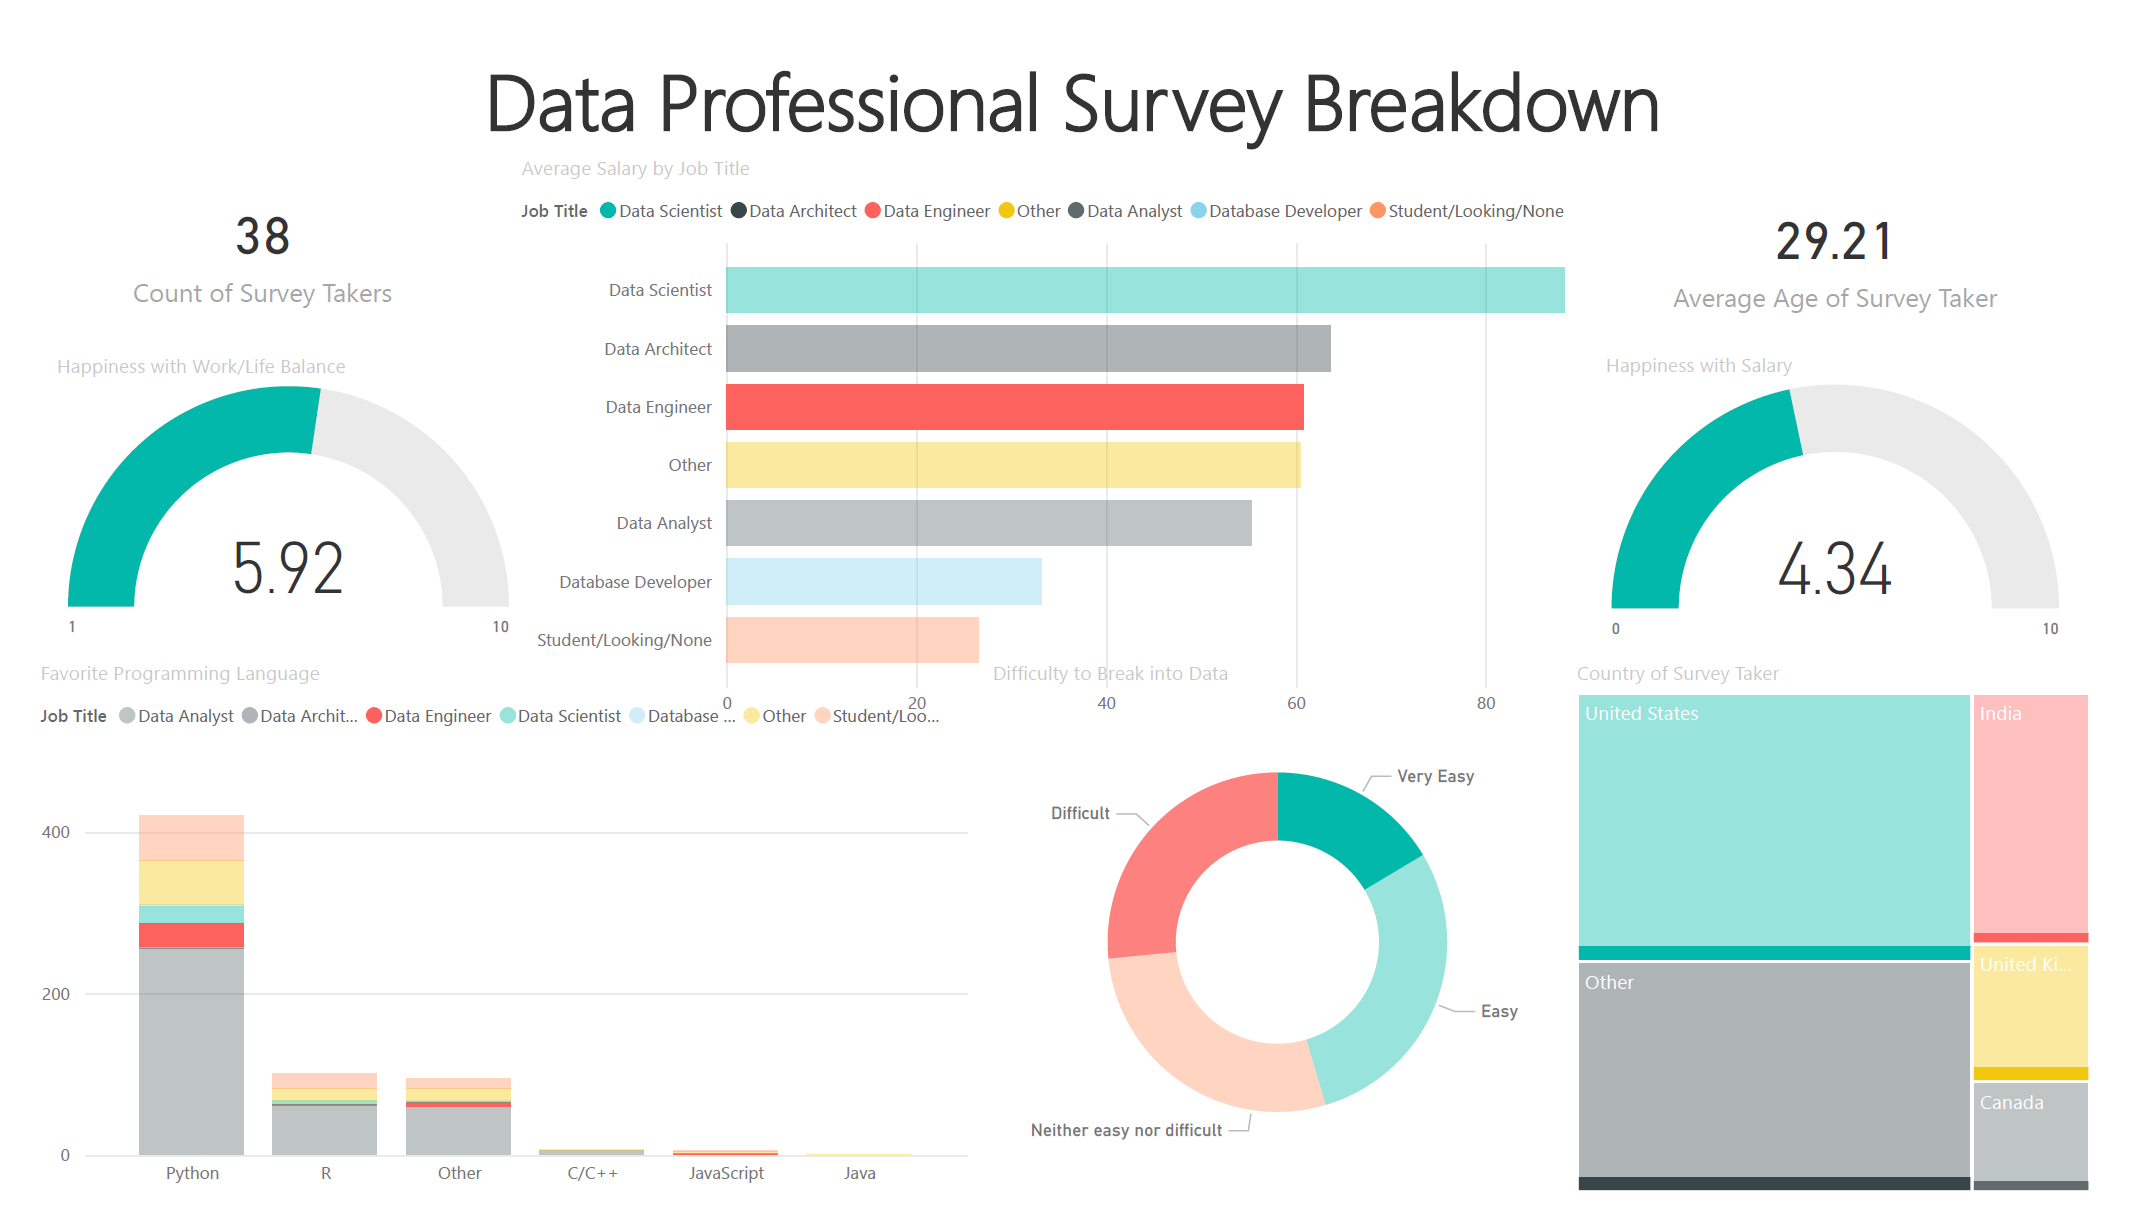

Layout of this report page (visuals, bound fields, positions):
{"tool":"powerbi","page":{"name":"Page 1","canvas":[1280,720],"ordinal":0},"visuals":[{"type":"textbox","box":[9.6,0,1270.7,76.8],"z":0},{"type":"card","fields":{"Values":["Count(Data Professional Survey (2).Unique ID)"]},"box":[51.2,77.5,182.7,106.6],"z":1000},{"type":"card","fields":{"Values":["Avg(Data Professional Survey (2).Q10 - Current Age)"]},"box":[1009,77.5,215.9,112.1],"z":2000},{"type":"barChart","title":"Average Salary by Job Title","fields":{"Category":["Data Professional Survey (2).Q1 - Which Title Best Fits your Current Role?.1"],"Y":["Avg(Data Professional Survey (2).Average Salary)"],"Series":["Data Professional Survey (2).Q1 - Which Title Best Fits your Current Role?.1"]},"box":[297.6,72,672.7,357.1],"z":3000},{"type":"columnChart","title":"Favorite Programming Language","fields":{"Category":["Data Professional Survey (2).Q5 - Favorite Programming Language.1"],"Y":["CountNonNull(Data Professional Survey (2).Unique ID)"],"Series":["Data Professional Survey (2).Q1 - Which Title Best Fits your Current Role?.1"]},"box":[0,384.8,584.1,334.9],"z":4000},{"type":"treemap","title":"Country of Survey Taker","fields":{"Group":["Data Professional Survey (2).Q11 - Which Country do you live in?.1"],"Values":["CountNonNull(Data Professional Survey (2).Q11 - Which Country do you live in?.1)"]},"box":[952.3,384.8,328,334.9],"z":5000},{"type":"gauge","title":"Happiness with Work/Life Balance","fields":{"Y":["Avg(Data Professional Survey (2).Q6 - How Happy are you in your Current Position with the following? (Work/Life Balance)"],"MinValue":["Min(Data Professional Survey (2).Q6 - How Happy are you in your Current Position with the following? (Work/Life Balance)"],"MaxValue":["Max(Data Professional Survey (2).Q6 - How Happy are you in your Current Position with the following? (Work/Life Balance)"]},"box":[9.7,195.2,297.6,182.7],"z":6000},{"type":"gauge","title":"Happiness with Salary","fields":{"Y":["Avg(Data Professional Survey (2).Q6 - How Happy are you in your Current Position with the following? (Salary))"],"MinValue":["Min(Data Professional Survey (2).Q6 - How Happy are you in your Current Position with the following? (Salary))"],"MaxValue":["Max(Data Professional Survey (2).Q6 - How Happy are you in your Current Position with the following? (Salary))"]},"box":[970.2,193.8,293.4,185.5],"z":7000},{"type":"donutChart","title":"Difficulty to Break into Data","fields":{"Category":["Data Professional Survey (2).Q7 - How difficult was it for you to break into Data?"],"Y":["Avg(Data Professional Survey (2).Average Salary)"]},"box":[589.6,384.8,362.6,334.9],"z":8000}]}

Visuals, with their boxes in screenshot pixels (x1, y1, x2, y2), scaled from the page's 1280x720 canvas onto the 2135x1231 screenshot:
textbox: l=16, t=0, r=2134, b=131
card - Count(Data Professional Survey (2).Unique ID): l=85, t=133, r=390, b=315
card - Avg(Data Professional Survey (2).Q10 - Current Age): l=1683, t=133, r=2043, b=324
"Average Salary by Job Title" barChart: l=496, t=123, r=1618, b=734
"Favorite Programming Language" columnChart: l=0, t=658, r=974, b=1230
"Country of Survey Taker" treemap: l=1588, t=658, r=2134, b=1230
"Happiness with Work/Life Balance" gauge: l=16, t=334, r=513, b=646
"Happiness with Salary" gauge: l=1618, t=331, r=2108, b=648
"Difficulty to Break into Data" donutChart: l=983, t=658, r=1588, b=1230
